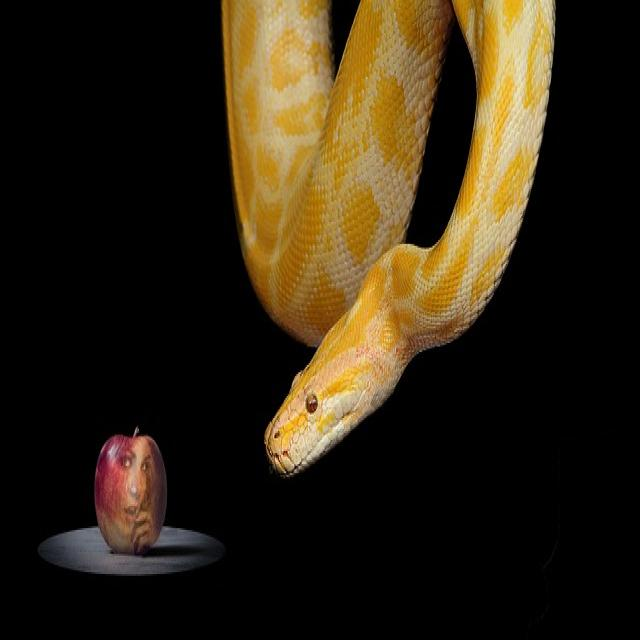Carnivorous: (219, 0, 555, 479)
